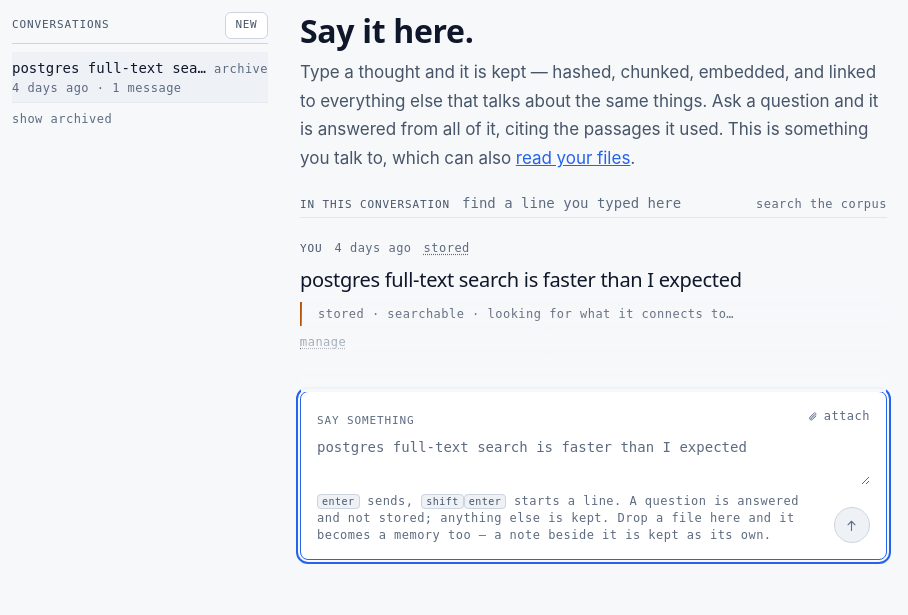
it: managing a memory from the chat › removes from view on one click, and says it can be undone
Click the button "manage": click(323, 343) [300,334,346,351]
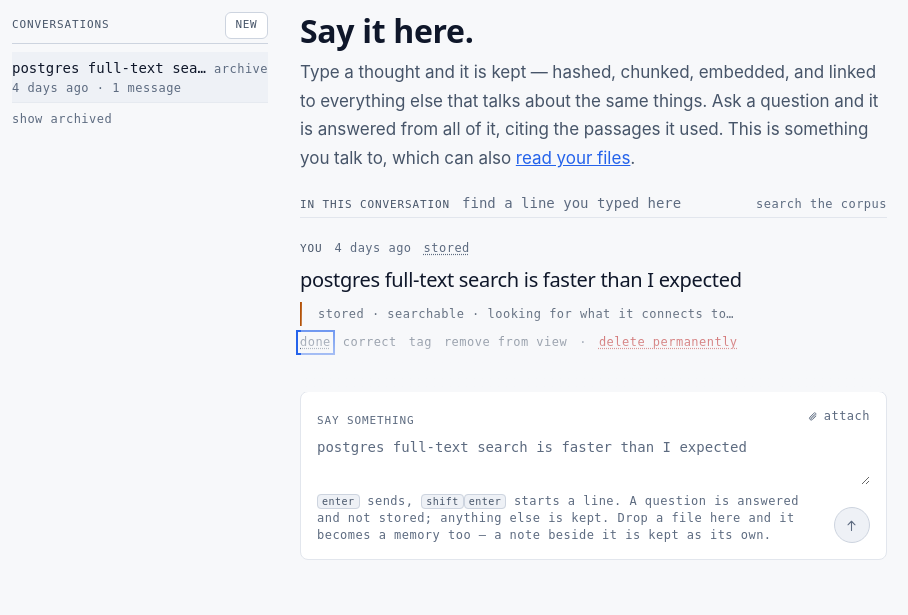
Click the button "remove from view": click(506, 343) [444,334,567,351]
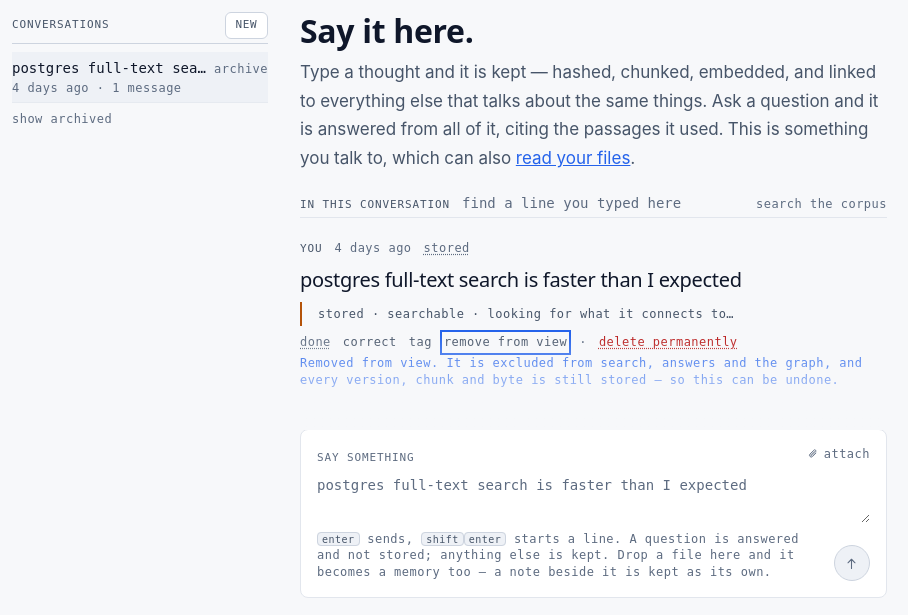
Now the text "so this can be undone" is shown, box [300,356,862,387]
